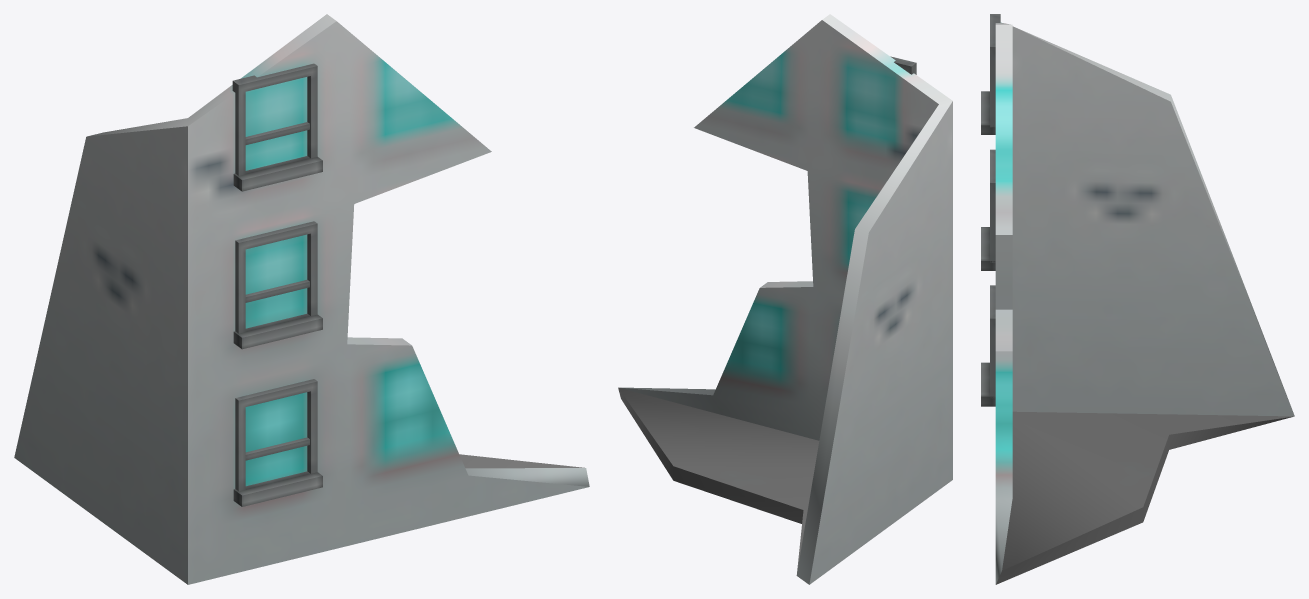
The model's file is B6Broke05.FBX.
The picture shows the model from 3 angles, left to right: view 1: azimuth 30°, elevation 25°; view 2: azimuth 150°, elevation 25°; view 3: azimuth 270°, elevation 25°; orthographic projection. The views are drawn at different scales.
Parts seen in each view (by area): view 1: B6Broke05; view 2: B6Broke05; view 3: B6Broke05.
Boxes of the visible parts, x1,y1,x2,y2 form: B6Broke05: [14, 14, 589, 584]; B6Broke05: [618, 14, 952, 584]; B6Broke05: [981, 14, 1294, 584].
Bounding box in the file's own units: 69.13 × 86.75 × 54.34.
